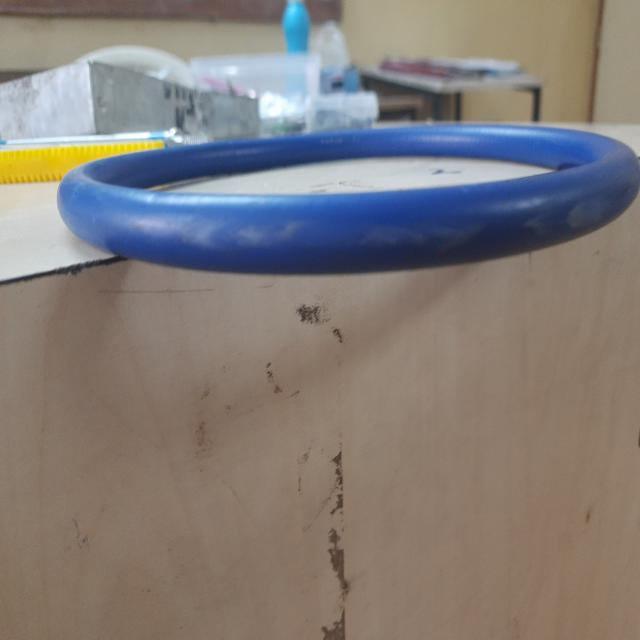daire: (64, 122, 640, 276)
